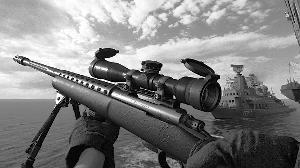sniper: (10, 42, 220, 161)
